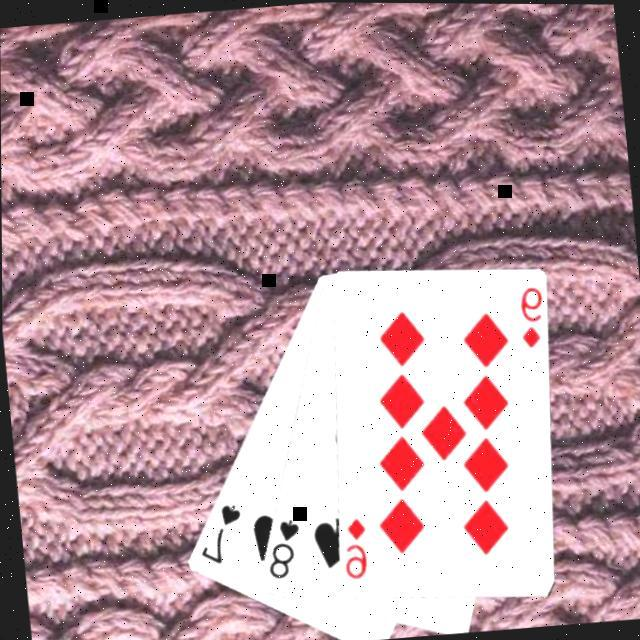7S: (193, 500, 248, 569)
8S: (260, 515, 306, 583)
9D: (339, 514, 373, 584), (514, 282, 548, 352)
